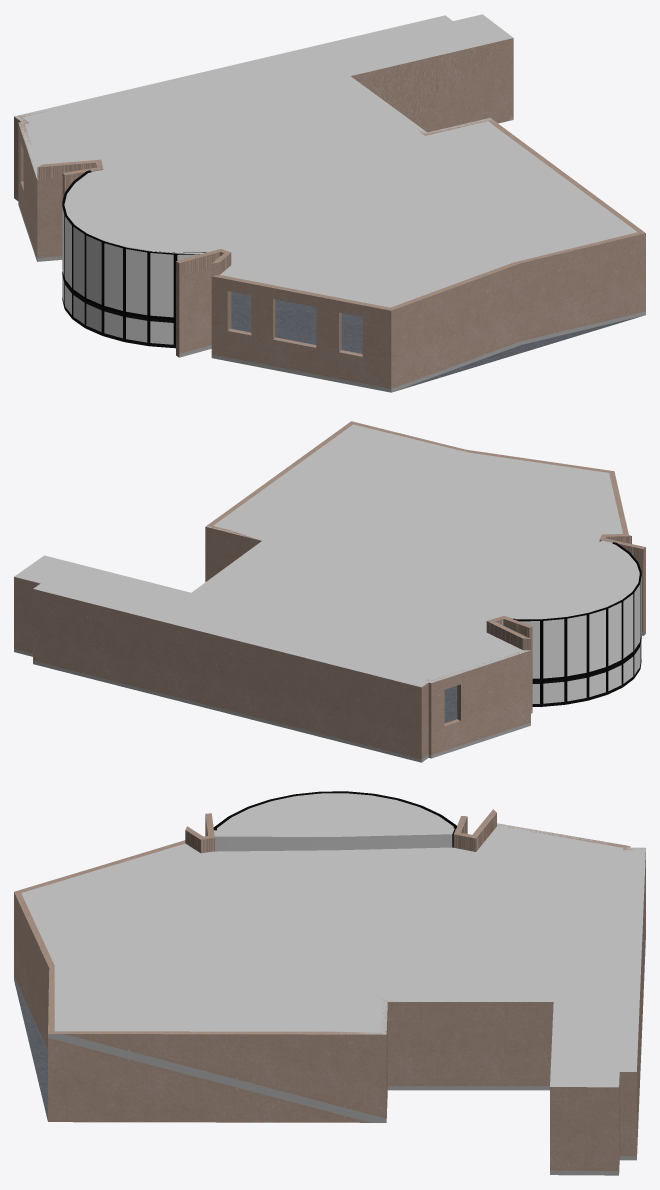
File: Office_fix.fbx
3 views of the same model, one above another, from view 1: azimuth 30°, elevation 25°; view 2: azimuth 150°, elevation 25°; view 3: azimuth 270°, elevation 25° (orthographic). The views are drawn at different scales.
Parts seen in each view (by area): view 1: Roof, Wall, RoundWindowGlass.001, Floor, RoundWindowMetal.001; view 2: Roof, Wall, RoundWindowGlass.001, RoundWindowMetal.001; view 3: Roof, Wall, Floor, RoundWindowMetal.001.
Boxes of the visible parts, x1,y1,x2,y2 form: Roof: (14, 14, 637, 307); Wall: (14, 38, 645, 392); RoundWindowGlass.001: (62, 207, 198, 344); Floor: (231, 292, 642, 391); RoundWindowMetal.001: (62, 170, 206, 348); Roof: (14, 424, 639, 687); Wall: (14, 421, 645, 762); RoundWindowGlass.001: (520, 576, 641, 703); RoundWindowMetal.001: (513, 542, 641, 706); Roof: (21, 793, 645, 1087); Wall: (14, 809, 645, 1175); Floor: (14, 981, 47, 1120); RoundWindowMetal.001: (213, 791, 456, 847).
Bounding box in the file's own units: 20.55 × 3.49 × 19.48.
